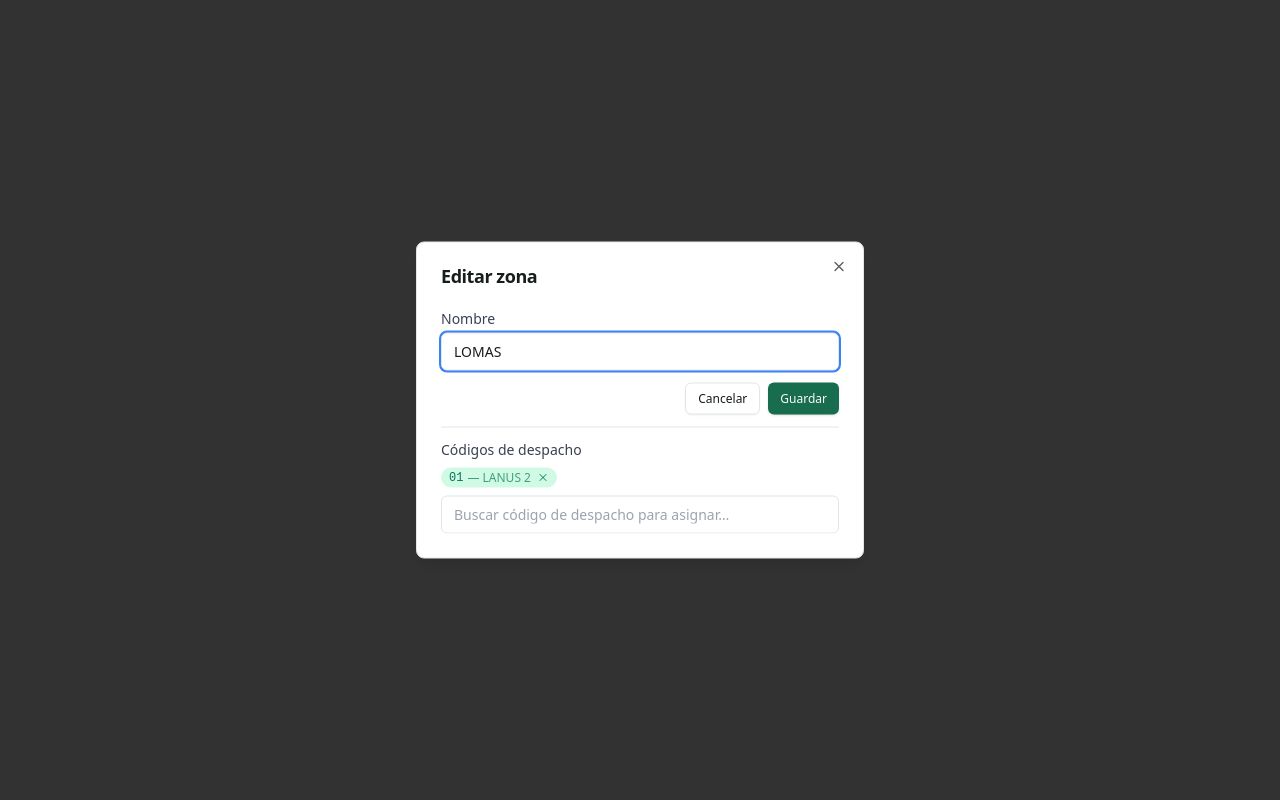
it: ZonaModal — edición › al asignar un código desde la búsqueda, vacía el campo de búsqueda
Type "per" into the field with placeholder "Buscar código de despacho para asignar…" at (640, 514), box [441, 496, 839, 534]
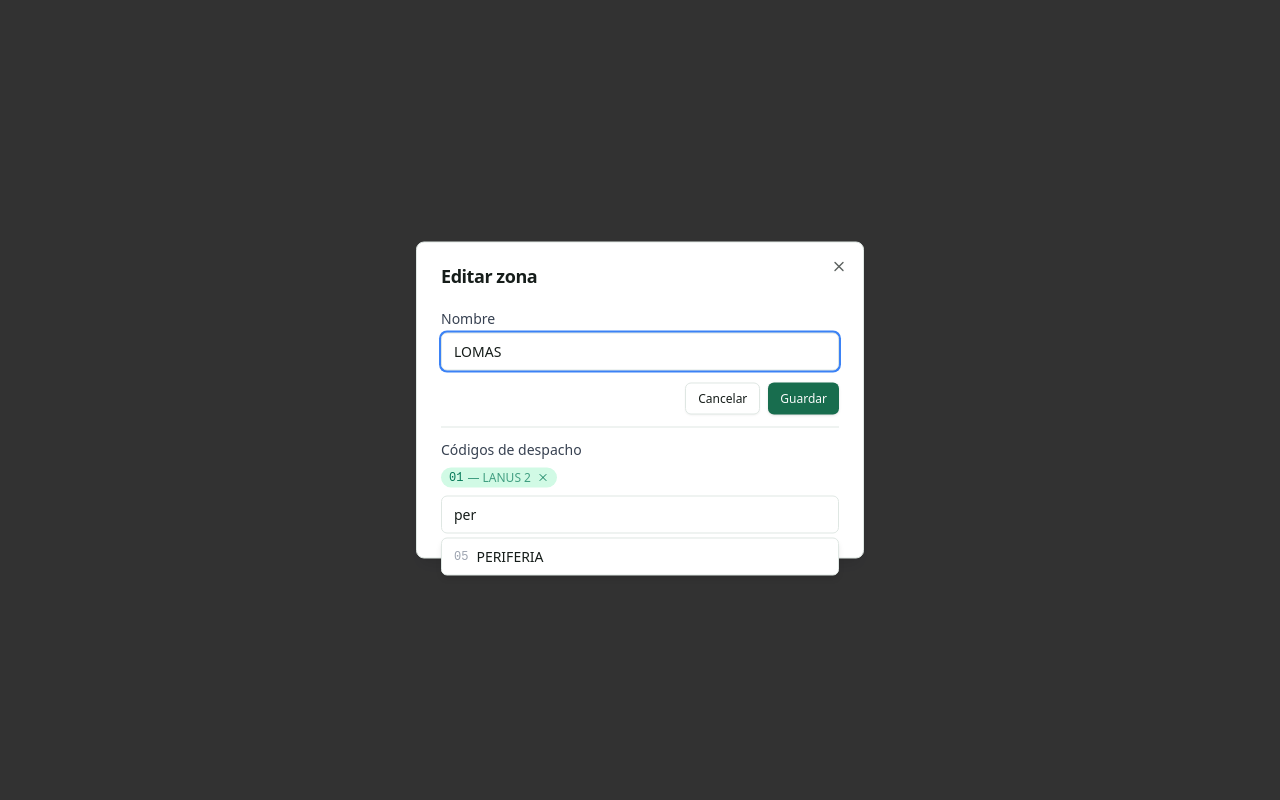
Click the text "PERIFERIA" at (510, 556), box [476, 546, 544, 566]
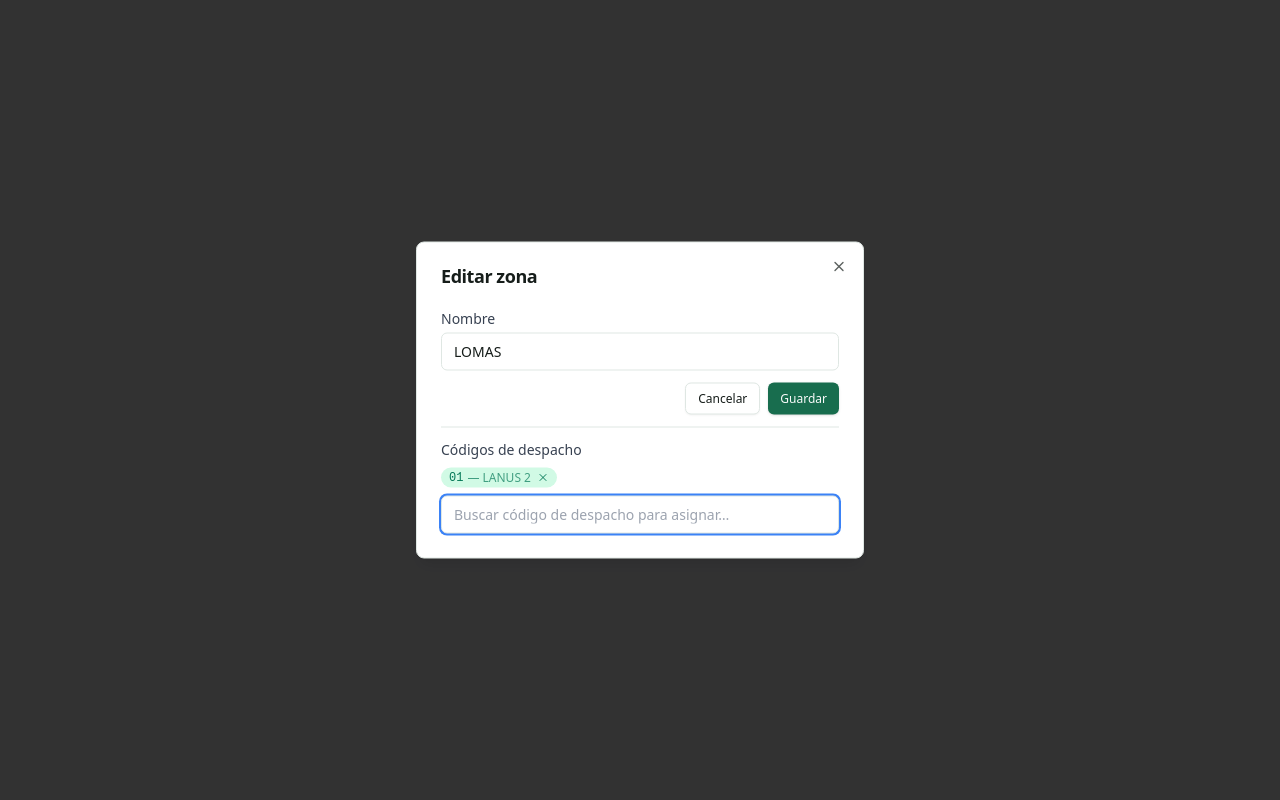
Check: the field with placeholder "Buscar código de despacho para asignar…" is empty, box [441, 496, 839, 534]
